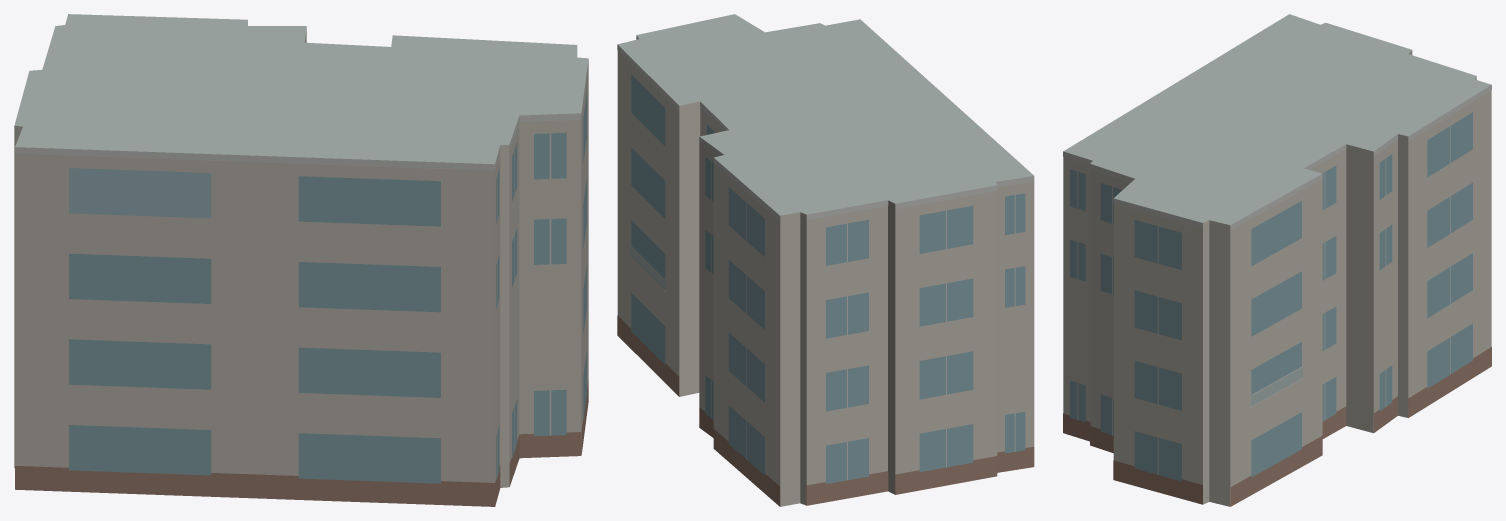
Rendered from survey-upis-32644900.glb.
3 views of the same model, side by side, from view 1: azimuth 30°, elevation 25°; view 2: azimuth 150°, elevation 25°; view 3: azimuth 270°, elevation 25° (orthographic). The views are drawn at different scales.
Visible parts, largest first — view 1: survey-upis-32644900.tmp; view 2: survey-upis-32644900.tmp; view 3: survey-upis-32644900.tmp.
Part boxes in pixels (x1=…): survey-upis-32644900.tmp: x1=14, y1=14, x2=588, y2=506; survey-upis-32644900.tmp: x1=617, y1=14, x2=1034, y2=506; survey-upis-32644900.tmp: x1=1063, y1=14, x2=1491, y2=506.
Size of the model in its own units: 20.59 by 12.8 by 17.66.
